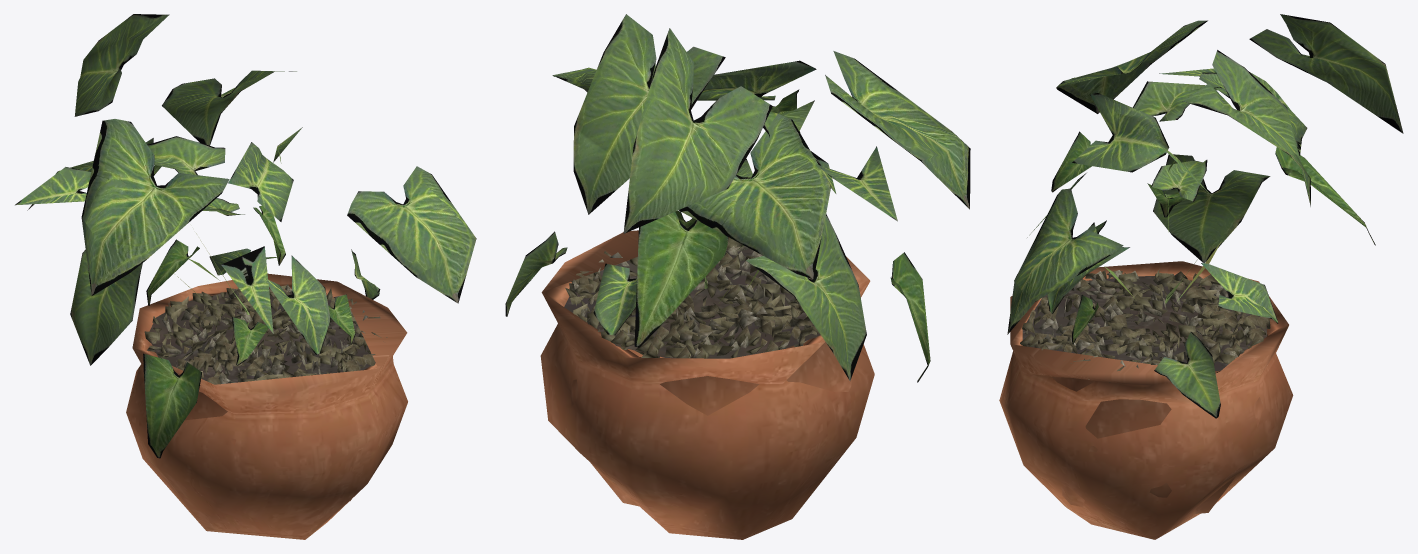
The model's file is scene-potted.glb.
3 renders of one model, left to right at view 1: azimuth 30°, elevation 25°; view 2: azimuth 150°, elevation 25°; view 3: azimuth 270°, elevation 25°, orthographic. The views are drawn at different scales.
Parts seen in each view (by area): view 1: potted_plant_02_leaves, potted_plant_02_pot; view 2: potted_plant_02_leaves, potted_plant_02_pot; view 3: potted_plant_02_pot, potted_plant_02_leaves.
Boxes of the visible parts, x1=… form: potted_plant_02_leaves: x1=15, y1=14, x2=476, y2=458; potted_plant_02_pot: x1=126, y1=273, x2=407, y2=539; potted_plant_02_leaves: x1=505, y1=14, x2=970, y2=382; potted_plant_02_pot: x1=540, y1=230, x2=874, y2=539; potted_plant_02_pot: x1=999, y1=261, x2=1293, y2=539; potted_plant_02_leaves: x1=1007, y1=14, x2=1403, y2=418.
Size of the model in its own units: 0.6967 by 0.8395 by 0.6451.
2 materials, 2 textured.
